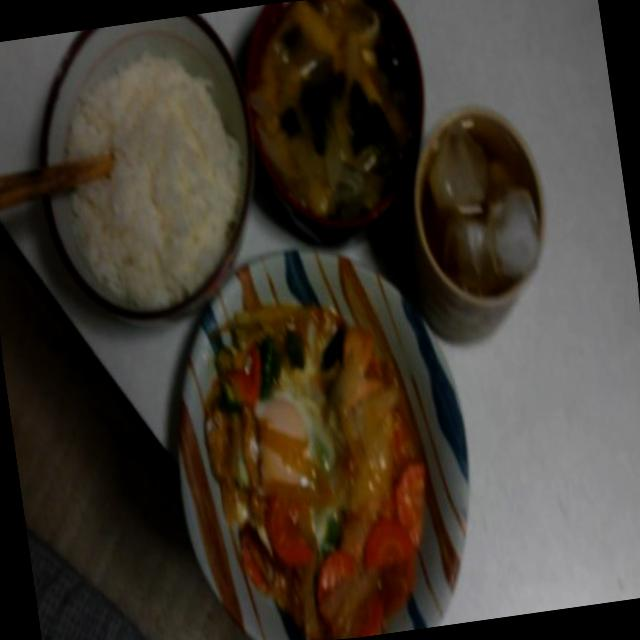Rice: (31, 32, 262, 306)
